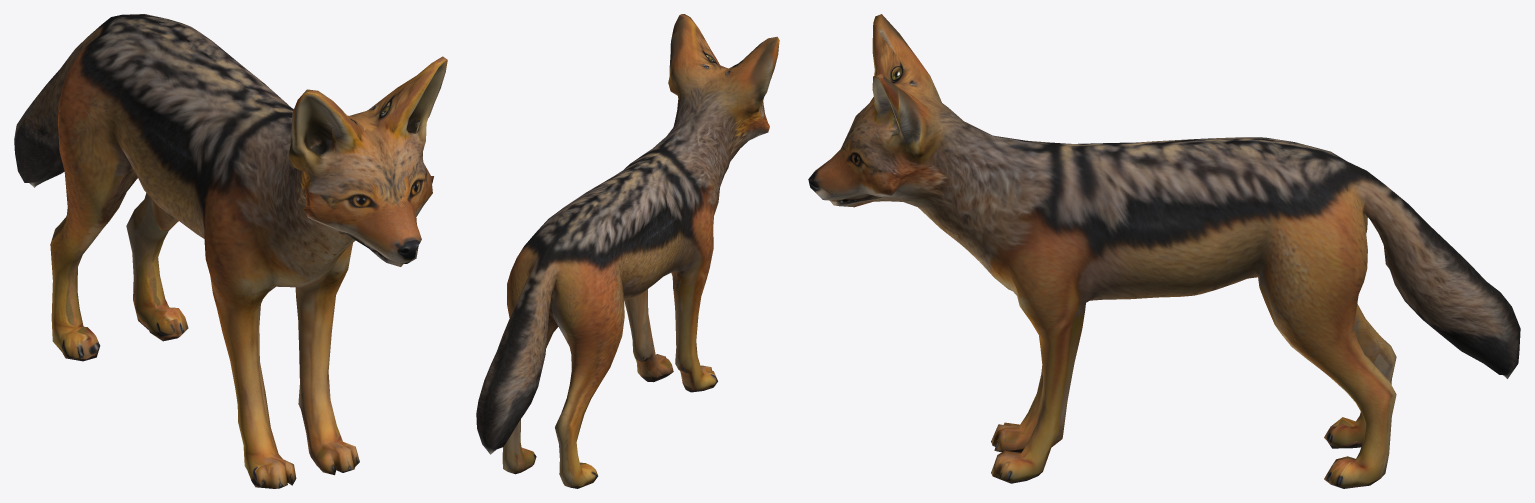
Rendered from jackal.glb.
3 renders of one model, left to right at view 1: azimuth 30°, elevation 25°; view 2: azimuth 150°, elevation 25°; view 3: azimuth 270°, elevation 25°, orthographic. The views are drawn at different scales.
Bounding box in the file's own units: 0.4467 × 1.3 × 2.
1 material, 1 textured.
